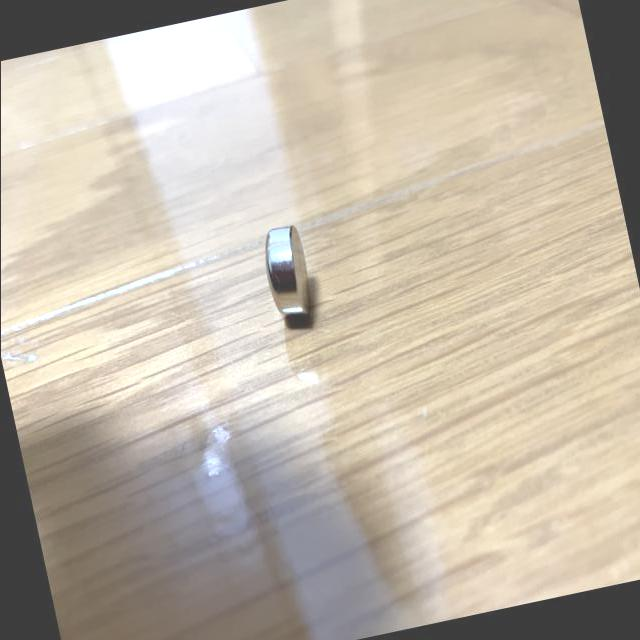COIN: (258, 220, 320, 323)
